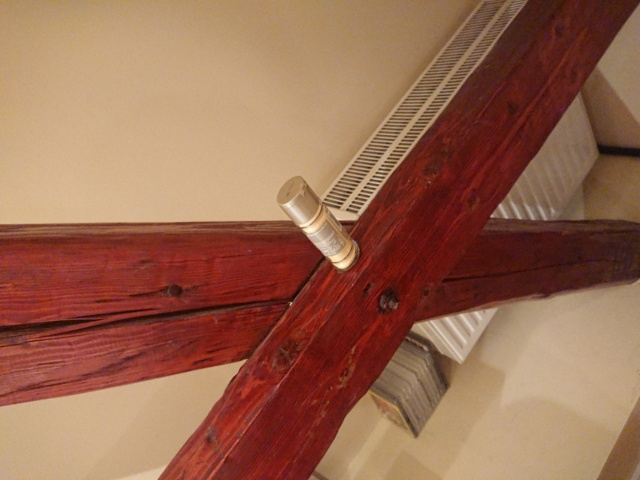Kotanyi Garlic Granules 70g: (274, 173, 362, 275)
